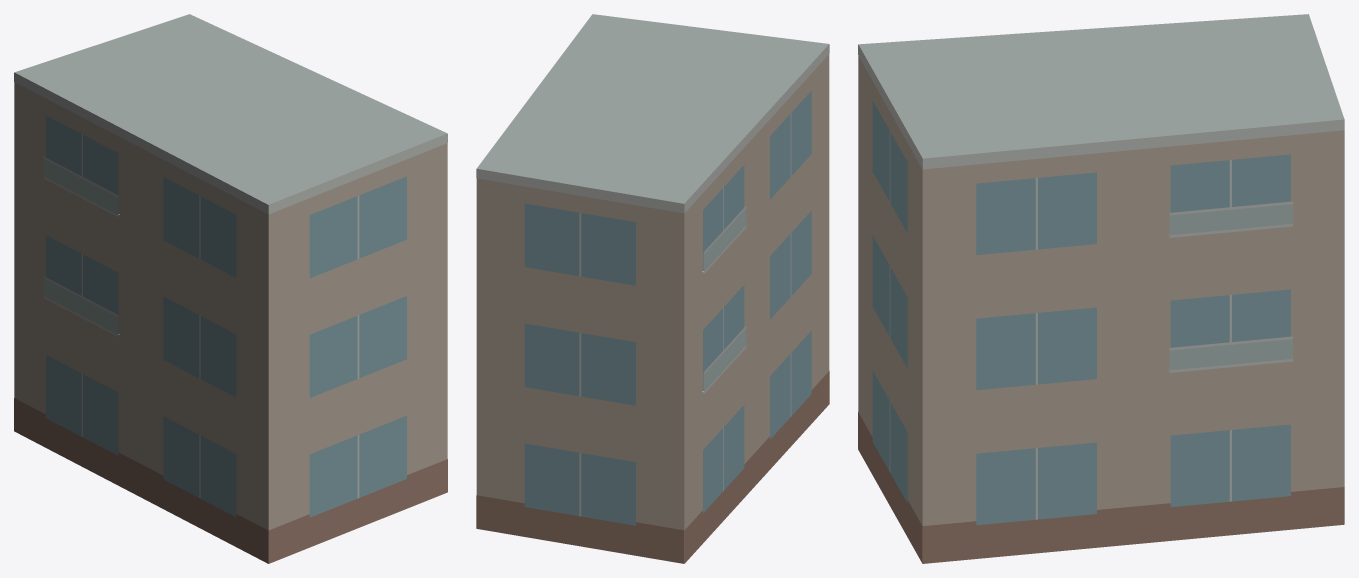
The model's file is survey-upis-32471885.glb.
3 views of the same model, side by side, from view 1: azimuth 30°, elevation 25°; view 2: azimuth 150°, elevation 25°; view 3: azimuth 270°, elevation 25° (orthographic). The views are drawn at different scales.
Visible parts, largest first — view 1: survey-upis-32471885.tmp; view 2: survey-upis-32471885.tmp; view 3: survey-upis-32471885.tmp.
Boxes of the visible parts, x1=… form: survey-upis-32471885.tmp: x1=14, y1=14, x2=447, y2=563; survey-upis-32471885.tmp: x1=476, y1=14, x2=829, y2=563; survey-upis-32471885.tmp: x1=858, y1=14, x2=1344, y2=563.
Bounding box in the file's own units: 7.02 × 9.15 × 9.97.
